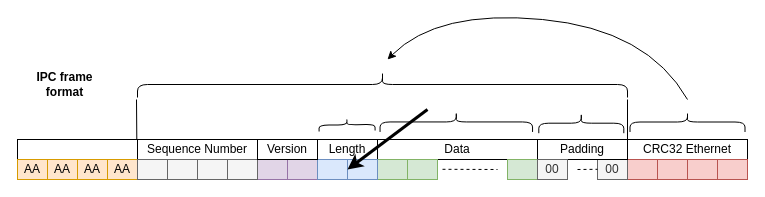
Some shapes in this 765 by 197 pixel diagram are drawn without their labels. The box of each missing label's shape, as (x1, y1, x2, y2) in pixels:
(256 - n) bytes: (538, 112, 624, 133)
16 bits: (318, 117, 375, 131)
n bytes: (379, 111, 533, 132)
StartFrameDelimitor: (16, 138, 138, 160)
